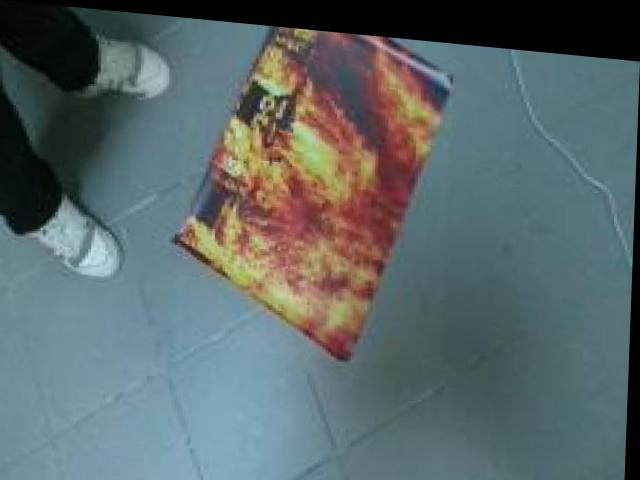fire-poster: (167, 13, 460, 365)
